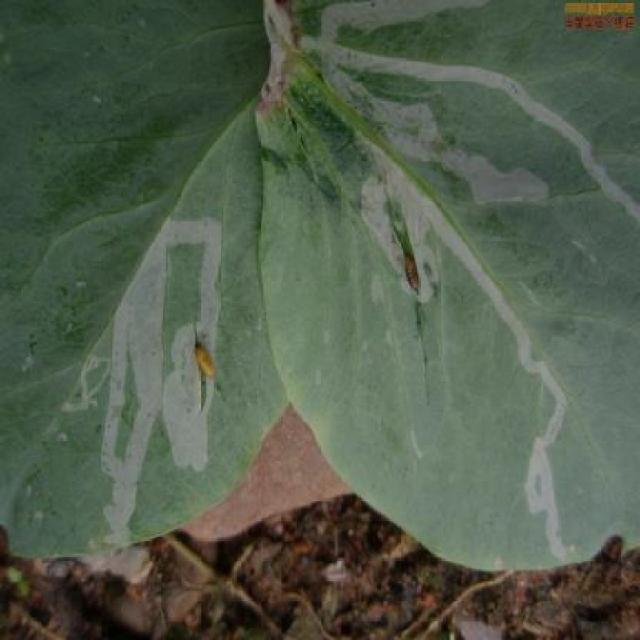whorl-maggot: (394, 251, 435, 303), (186, 337, 223, 388)
